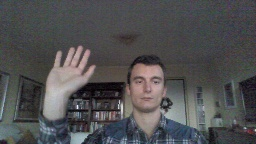Mano_aperta: (43, 43, 98, 99)
